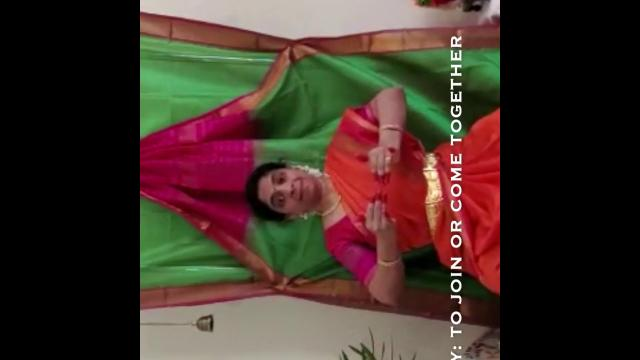mrighasheesh: (342, 129, 424, 185), (340, 190, 410, 246)
